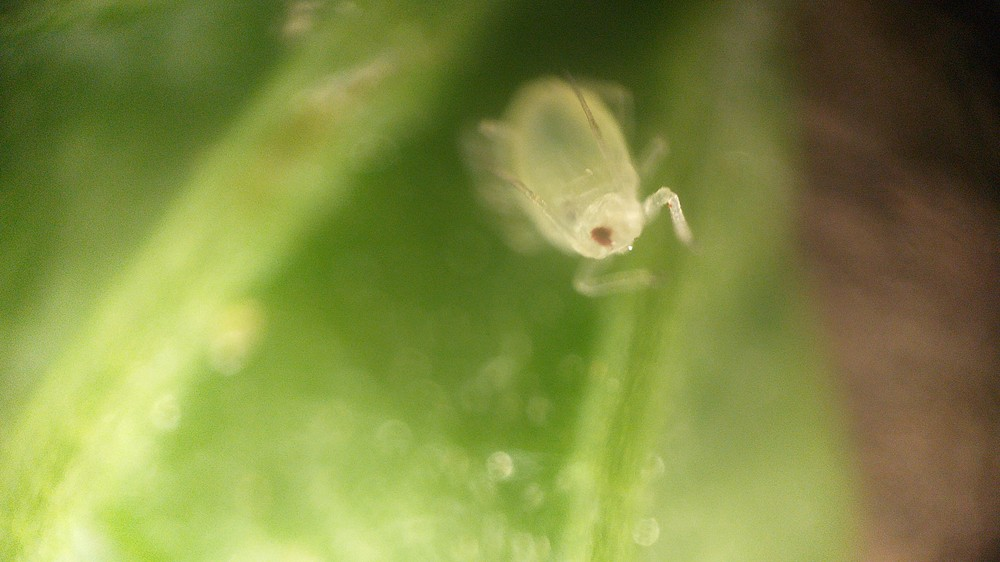Pulgon: (423, 58, 720, 337)
